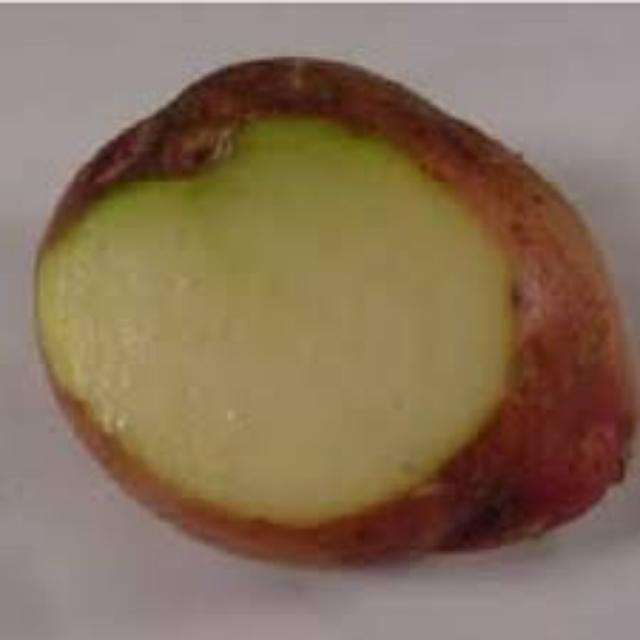Defected potato: (18, 51, 640, 575)
